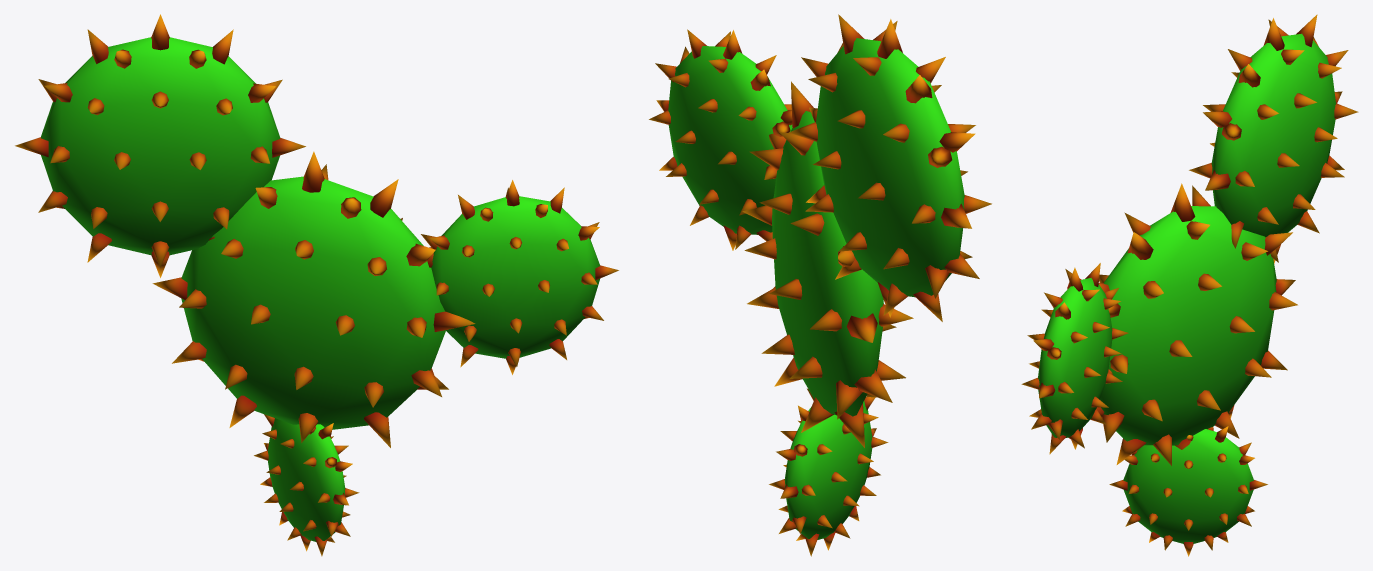
The model's file is Vera_3D-Model_Cactus_B_UP.fbx.
3 renders of one model, left to right at view 1: azimuth 30°, elevation 25°; view 2: azimuth 150°, elevation 25°; view 3: azimuth 270°, elevation 25°, orthographic. The views are drawn at different scales.
Parts seen in each view (by area): view 1: Icosphere.005; view 2: Icosphere.005; view 3: Icosphere.005.
Boxes of the visible parts, bbox=[...] form: Icosphere.005: bbox=[15, 14, 618, 556]; Icosphere.005: bbox=[649, 14, 991, 556]; Icosphere.005: bbox=[1021, 14, 1358, 556].
Size of the model in its own units: 365 by 418 by 259.
1 material, 1 textured.
